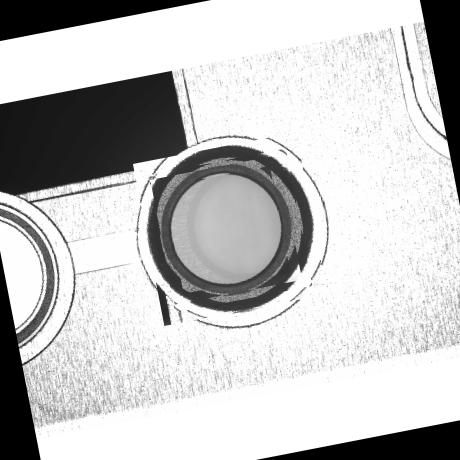Hole: (132, 132, 328, 326)
Hole2: (148, 148, 312, 312)
Hole3: (150, 154, 302, 306)
Hole4: (163, 166, 291, 294)
